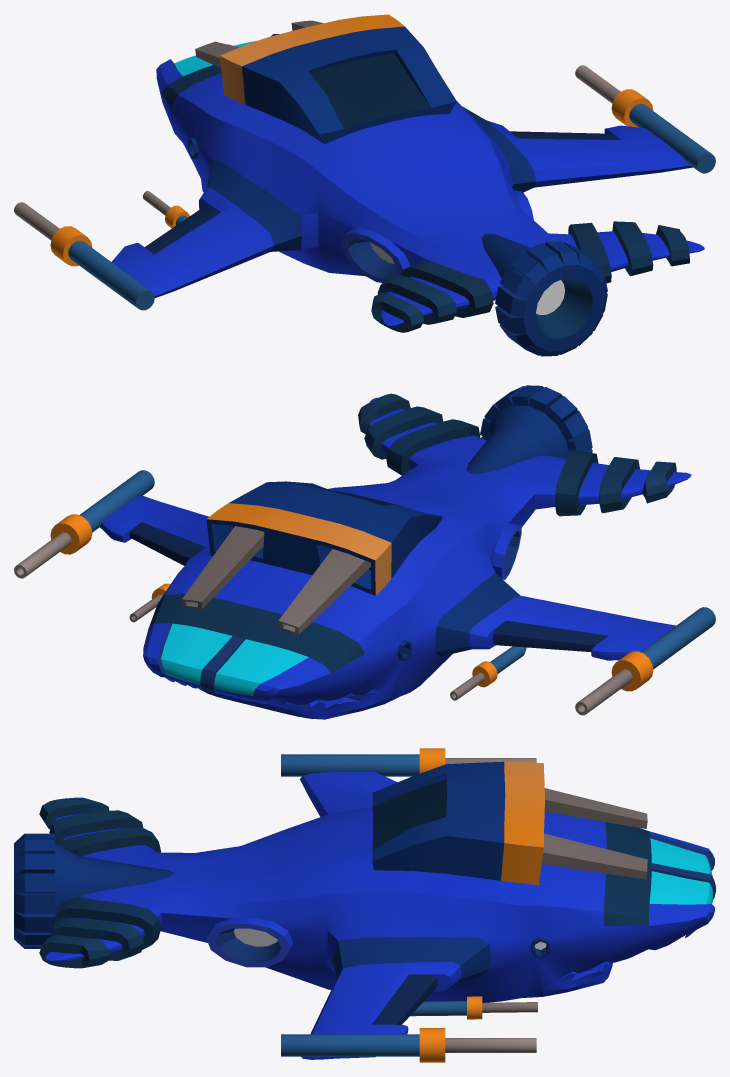
Rendered from Whale.fbx.
The picture shows the model from 3 angles, top to bottom: view 1: azimuth 30°, elevation 25°; view 2: azimuth 150°, elevation 25°; view 3: azimuth 270°, elevation 25°; orthographic projection. The views are drawn at different scales.
Parts seen in each view (by area): view 1: Whale; view 2: Whale; view 3: Whale.
Part boxes in pixels (x1,y1,x2,y2): Whale: (14,14,715,356); Whale: (14,385,715,719); Whale: (14,748,715,1062).
Size of the model in its own units: 2209 by 618 by 2225.
Materials: 3 (1 with a texture image).
